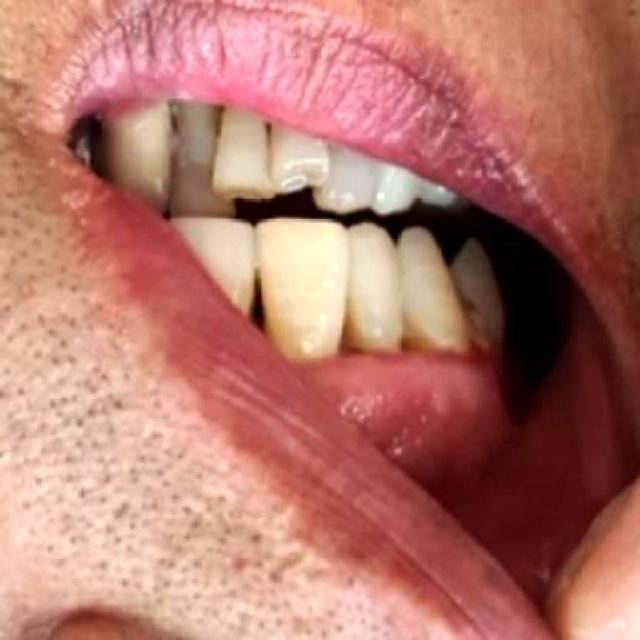Plaque: (349, 340, 500, 401)
